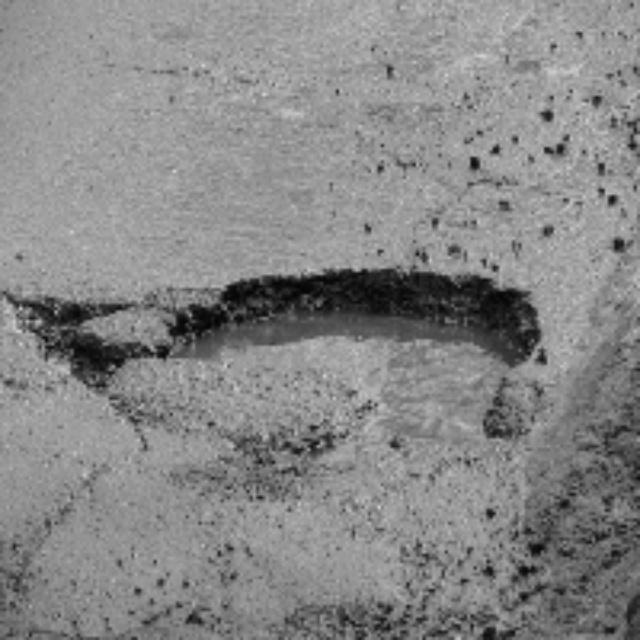Pothole: (221, 257, 581, 443)
